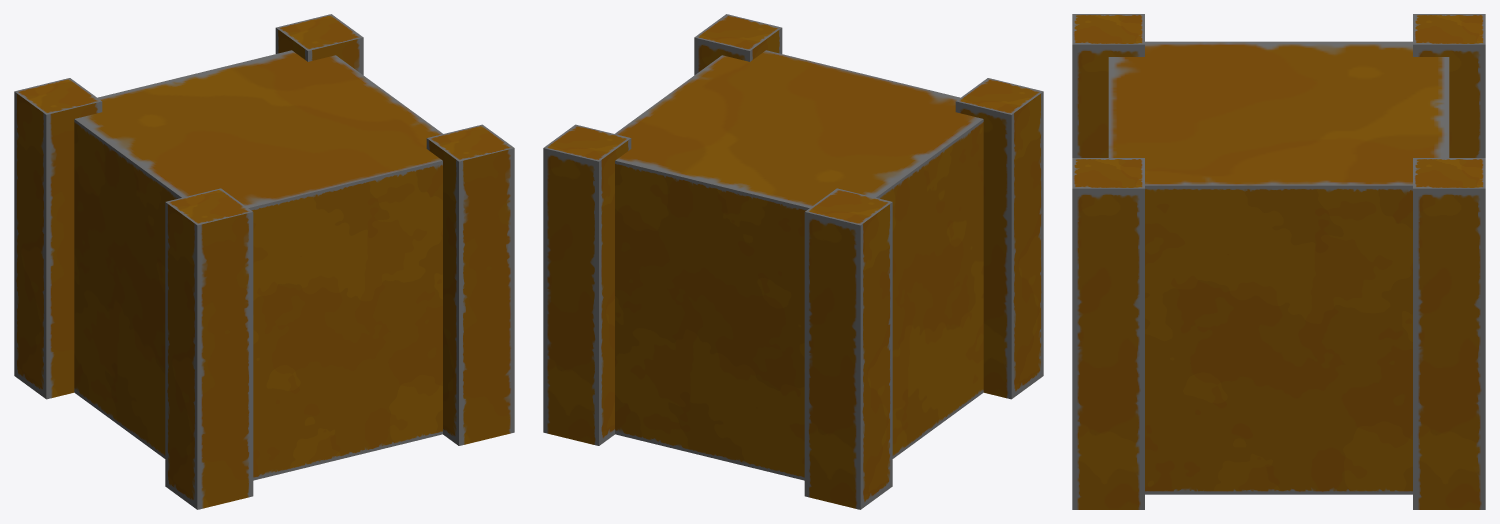
File: TrimSheetTest.fbx
3 renders of one model, left to right at view 1: azimuth 30°, elevation 25°; view 2: azimuth 150°, elevation 25°; view 3: azimuth 270°, elevation 25°, orthographic. The views are drawn at different scales.
Parts seen in each view (by area): view 1: Cube.025, Cube.029, Cube.026, Cube.028, Cube.027; view 2: Cube.025, Cube.028, Cube.027, Cube.029, Cube.026; view 3: Cube.025, Cube.026, Cube.027, Cube.028, Cube.029.
Part boxes in pixels (x1,y1,x2,y2): Cube.025: [74, 50, 442, 480]; Cube.029: [165, 188, 253, 509]; Cube.026: [426, 124, 514, 445]; Cube.028: [14, 78, 102, 399]; Cube.027: [275, 14, 363, 75]; Cube.025: [615, 50, 983, 480]; Cube.028: [804, 188, 892, 509]; Cube.027: [543, 124, 631, 445]; Cube.029: [955, 78, 1043, 399]; Cube.026: [694, 14, 782, 75]; Cube.025: [1108, 41, 1449, 494]; Cube.026: [1072, 158, 1144, 509]; Cube.027: [1413, 158, 1485, 509]; Cube.028: [1413, 14, 1485, 157]; Cube.029: [1072, 14, 1144, 157].
Bounding box in the file's own units: 2.43 × 2.08 × 2.43.
1 material, 1 textured.
